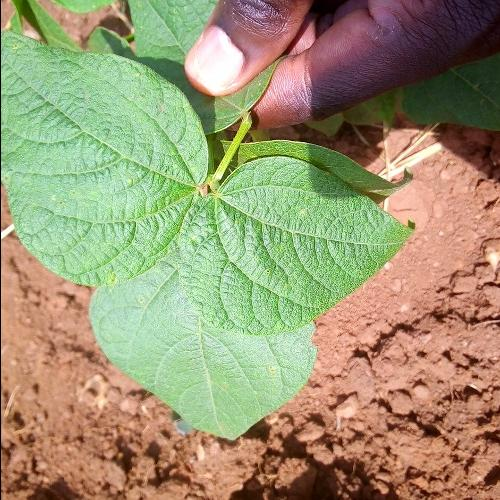mozaik: (19, 61, 386, 344)
